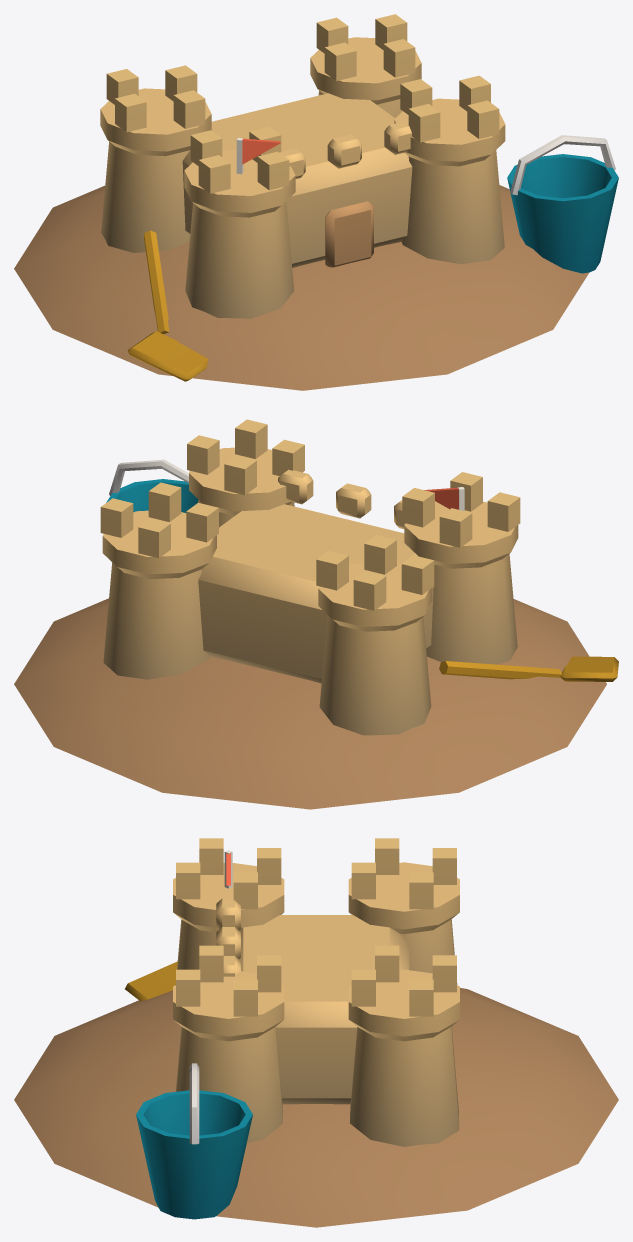
File: hz_sandcastle.glb
3 views of the same model, one above another, from view 1: azimuth 30°, elevation 25°; view 2: azimuth 150°, elevation 25°; view 3: azimuth 270°, elevation 25° (orthographic). The views are drawn at different scales.
Visible parts, largest first — view 1: hz_sandcastle; view 2: hz_sandcastle; view 3: hz_sandcastle.
Boxes of the visible parts, x1=… form: hz_sandcastle: x1=14, y1=14, x2=618, y2=390; hz_sandcastle: x1=14, y1=419, x2=618, y2=809; hz_sandcastle: x1=14, y1=838, x2=618, y2=1227.
Bounding box in the file's own units: 1.25 × 0.44 × 1.24.
